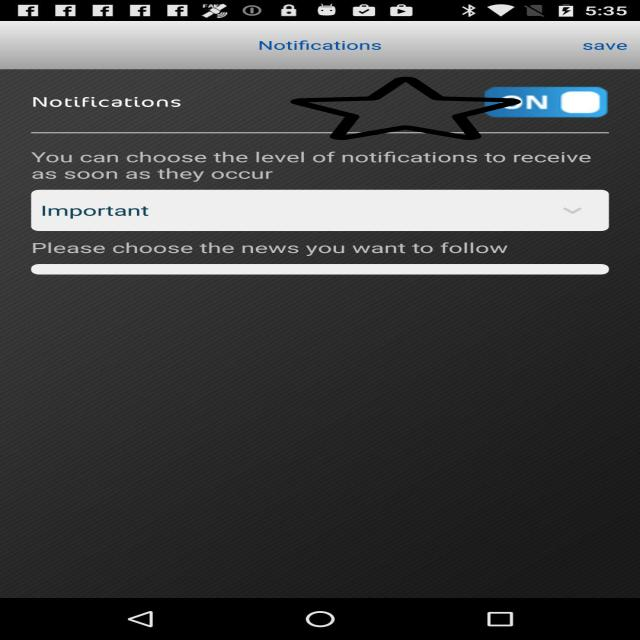forced continuity: (290, 76, 521, 142)
